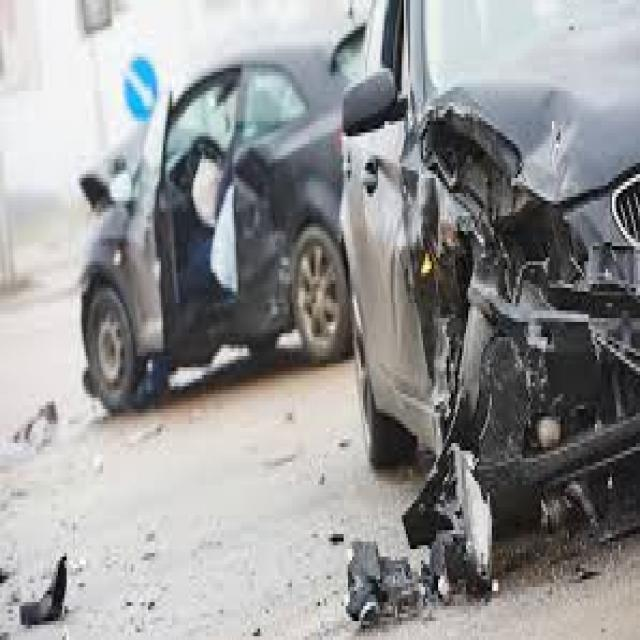accident: (62, 8, 640, 564)
